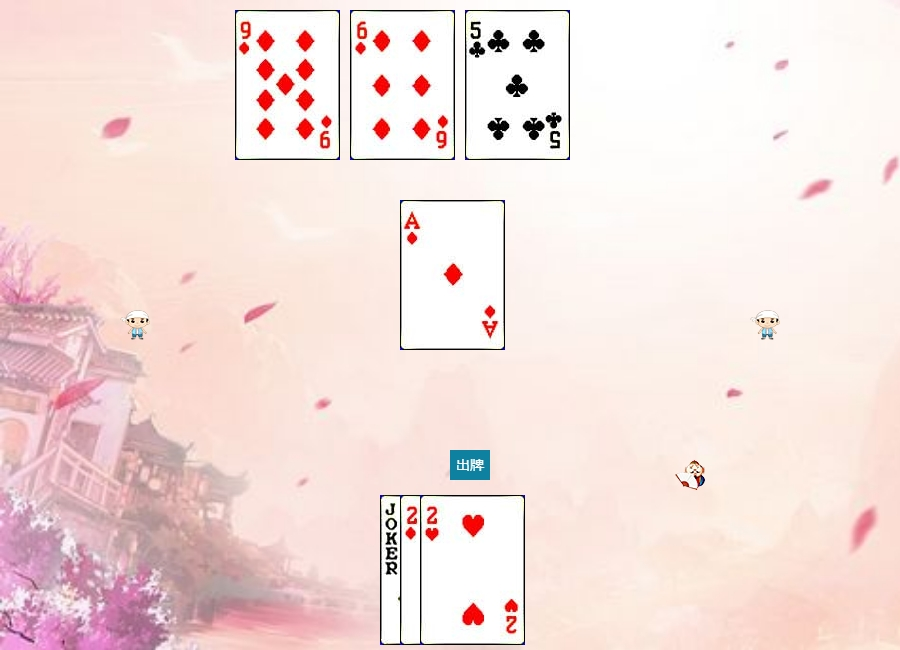14~1: (400, 200, 505, 350)
15~1: (400, 495, 505, 645)
15~3: (420, 495, 525, 645)
17~3: (380, 495, 485, 645)
5~2: (465, 10, 570, 160)
6~1: (350, 10, 455, 160)
9~1: (235, 10, 340, 160)
